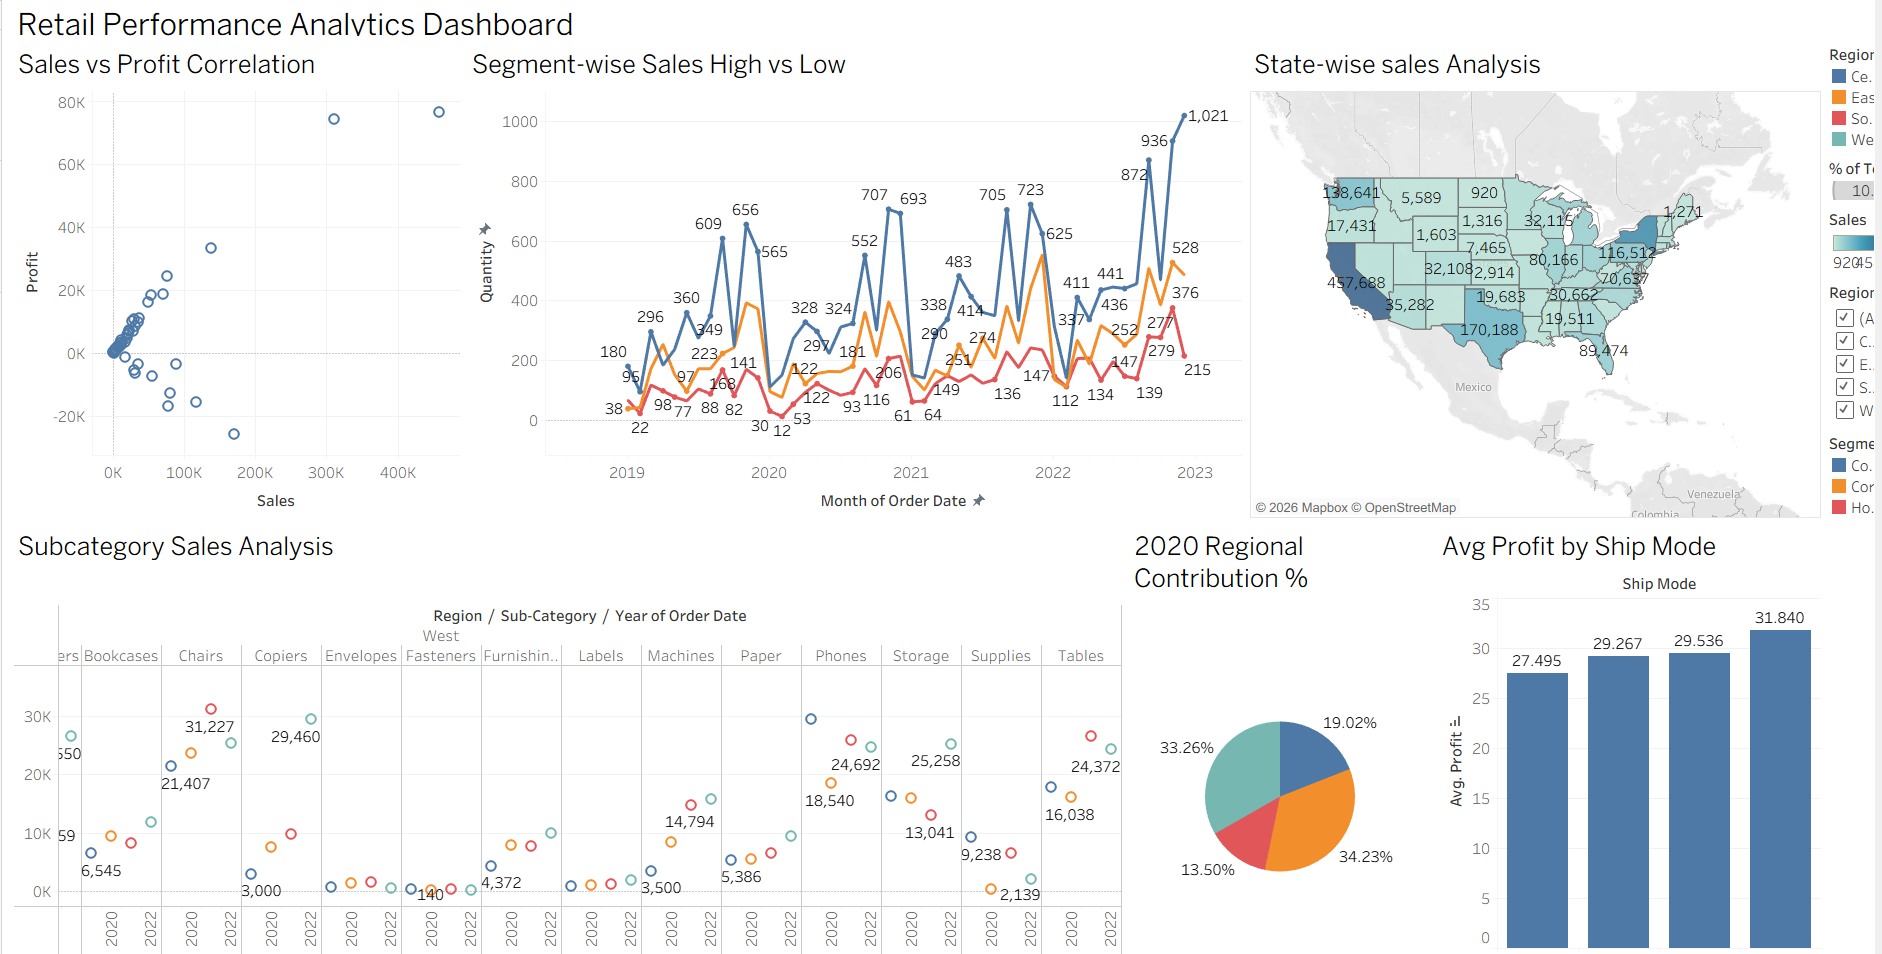

The dashboard page shown, as its layout file describes it:
{"tool":"tableau","page":{"name":"Retail Performance Analytics Dashboard","canvas":[1900,1000],"ordinal":1},"visuals":[{"type":"title","box":[8,8,1884,32]},{"type":"worksheet","title":"Sales vs Profit Correlation","mark":"Automatic","rows":["Profit"],"cols":["Sales"],"box":[8,40,453.7,482]},{"type":"worksheet","title":"Segment-wise Sales High vs Low","mark":"Automatic","rows":["Quantity"],"cols":["Order Date"],"box":[461.7,40,782.3,482]},{"type":"worksheet","title":"State-wise sales and profitability analysis","mark":"Automatic","box":[1243.9,40,579.1,482]},{"type":"legend","title":"2020 Regional Contribution %","param":"[federated.0q8yhsi0li3jvq1atekcg0qfpybu].[none:Region:nk]","box":[1823,40,69,114]},{"type":"legend","title":"2020 Regional Contribution %","param":"[federated.0q8yhsi0li3jvq1atekcg0qfpybu].[pcto:sum:Sales:qk:1]","box":[1823,154,69,51]},{"type":"legend","title":"State-wise sales and profitability analysis","param":"[federated.0q8yhsi0li3jvq1atekcg0qfpybu].[sum:Sales:qk]","box":[1823,205,69,73]},{"type":"filter","title":"Segment-wise Sales High vs Low","param":"[federated.0q8yhsi0li3jvq1atekcg0qfpybu].[none:Region:nk]","box":[1823,278,69,151]},{"type":"legend","title":"Segment-wise Sales High vs Low","param":"[federated.0q8yhsi0li3jvq1atekcg0qfpybu].[none:Segment:nk]","box":[1823,429,69,93]},{"type":"worksheet","title":"Subcategory Sales analysis","mark":"Shape","rows":["Sales"],"cols":["Region","Sub-Category","Order Date"],"box":[8,522,1116.2,470]},{"type":"worksheet","title":"2020 Regional Contribution %","mark":"Pie","box":[1124.2,522,307.6,470]},{"type":"worksheet","title":"Avg Profit by Ship Mode","mark":"Automatic","rows":["Profit"],"cols":["Ship Mode"],"box":[1431.8,522,391.2,470]},{"type":"legend","title":"Subcategory Sales analysis","param":"[federated.0q8yhsi0li3jvq1atekcg0qfpybu].[sum:Sales:qk]","box":[1823,522,69,32]}]}

Visuals, with their boxes on the page's 1900x1000 design canvas (x1, y1, x2, y2). These are canvas units, not pixel positions in the 1882x954 screenshot, which may show the page scaled, cropped or inside an application window:
title: <region>8, 8, 1892, 40</region>
"Sales vs Profit Correlation" worksheet: <region>8, 40, 462, 522</region>
"Segment-wise Sales High vs Low" worksheet: <region>462, 40, 1244, 522</region>
"State-wise sales and profitability analysis" worksheet: <region>1244, 40, 1823, 522</region>
"2020 Regional Contribution %" legend: <region>1823, 40, 1892, 154</region>
"2020 Regional Contribution %" legend: <region>1823, 154, 1892, 205</region>
"State-wise sales and profitability analysis" legend: <region>1823, 205, 1892, 278</region>
"Segment-wise Sales High vs Low" filter: <region>1823, 278, 1892, 429</region>
"Segment-wise Sales High vs Low" legend: <region>1823, 429, 1892, 522</region>
"Subcategory Sales analysis" worksheet (Shape marks): <region>8, 522, 1124, 992</region>
"2020 Regional Contribution %" worksheet (Pie marks): <region>1124, 522, 1432, 992</region>
"Avg Profit by Ship Mode" worksheet: <region>1432, 522, 1823, 992</region>
"Subcategory Sales analysis" legend: <region>1823, 522, 1892, 554</region>
